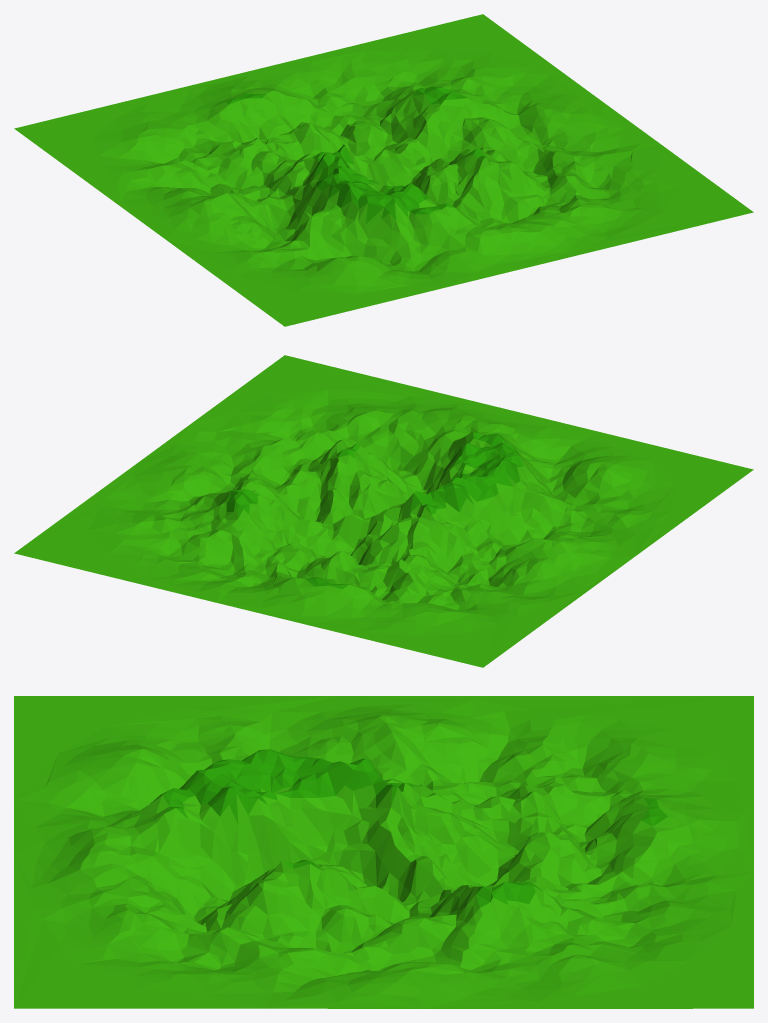
File: PondNoBase.glb
The picture shows the model from 3 angles, top to bottom: view 1: azimuth 30°, elevation 25°; view 2: azimuth 150°, elevation 25°; view 3: azimuth 270°, elevation 25°; orthographic projection. The views are drawn at different scales.
Parts seen in each view (by area): view 1: Landscape.001; view 2: Landscape.001; view 3: Landscape.001.
Boxes of the visible parts, left/top/right/bottom form: Landscape.001: left=14, top=14, right=753, bottom=326; Landscape.001: left=14, top=355, right=753, bottom=667; Landscape.001: left=14, top=696, right=753, bottom=1008.
Size of the model in its own units: 3 by 0.434 by 3.
